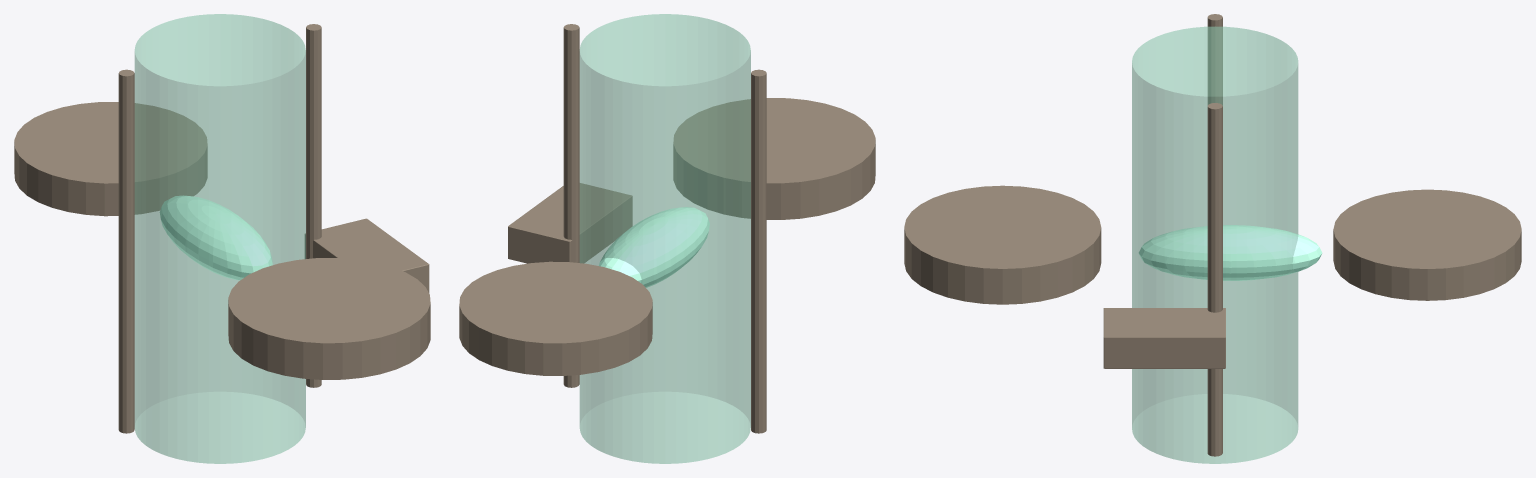
Rendered from dz_blender_lab_tank.glb.
3 views of the same model, side by side, from view 1: azimuth 30°, elevation 25°; view 2: azimuth 150°, elevation 25°; view 3: azimuth 270°, elevation 25° (orthographic). The views are drawn at different scales.
Visible parts, largest first — view 1: cylindre verre vert, socle metal bas, capot metal haut, tuyau externe, specimen suspendu, boitier controle, tuyau externe.001; view 2: cylindre verre vert, socle metal bas, capot metal haut, boitier controle, tuyau externe, specimen suspendu, tuyau externe.001; view 3: cylindre verre vert, socle metal bas, capot metal haut, boitier controle, specimen suspendu, tuyau externe.001, tuyau externe.
Part boxes in pixels (<box>): cylindre verre vert: <box>134,14,305,463</box>; socle metal bas: <box>228,258,430,379</box>; capot metal haut: <box>14,102,207,216</box>; tuyau externe: <box>118,69,134,433</box>; specimen suspendu: <box>160,195,272,280</box>; boitier controle: <box>305,218,429,293</box>; tuyau externe.001: <box>306,24,321,387</box>; cylindre verre vert: <box>579,14,750,463</box>; socle metal bas: <box>673,98,875,219</box>; capot metal haut: <box>459,261,652,375</box>; boitier controle: <box>508,183,632,263</box>; tuyau externe: <box>751,69,766,433</box>; specimen suspendu: <box>599,207,709,287</box>; tuyau externe.001: <box>563,24,579,387</box>; cylindre verre vert: <box>1132,26,1298,463</box>; socle metal bas: <box>904,185,1101,304</box>; capot metal haut: <box>1333,189,1521,300</box>; boitier controle: <box>1103,308,1225,368</box>; specimen suspendu: <box>1139,225,1322,280</box>; tuyau externe.001: <box>1207,103,1222,456</box>; tuyau externe: <box>1207,14,1222,105</box>.
Size of the model in its own units: 1.29 by 1.85 by 2.82.
